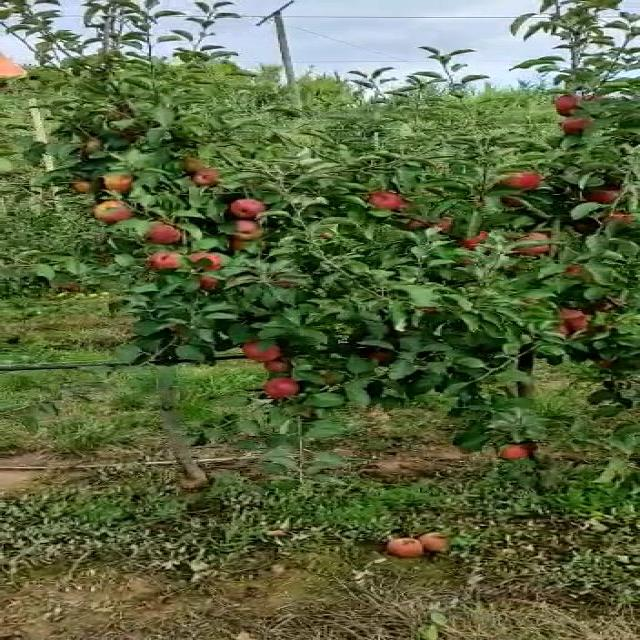100-_ripeness: (544, 306, 598, 335), (84, 196, 134, 226), (556, 89, 606, 118), (491, 170, 544, 196), (572, 183, 632, 205), (244, 338, 292, 364), (224, 219, 280, 241), (256, 378, 304, 403), (509, 231, 553, 258), (226, 197, 276, 220), (96, 172, 149, 193), (151, 251, 193, 275), (191, 251, 236, 273), (369, 188, 407, 213), (185, 274, 220, 296), (191, 171, 227, 188), (564, 117, 598, 135), (264, 360, 296, 375)
